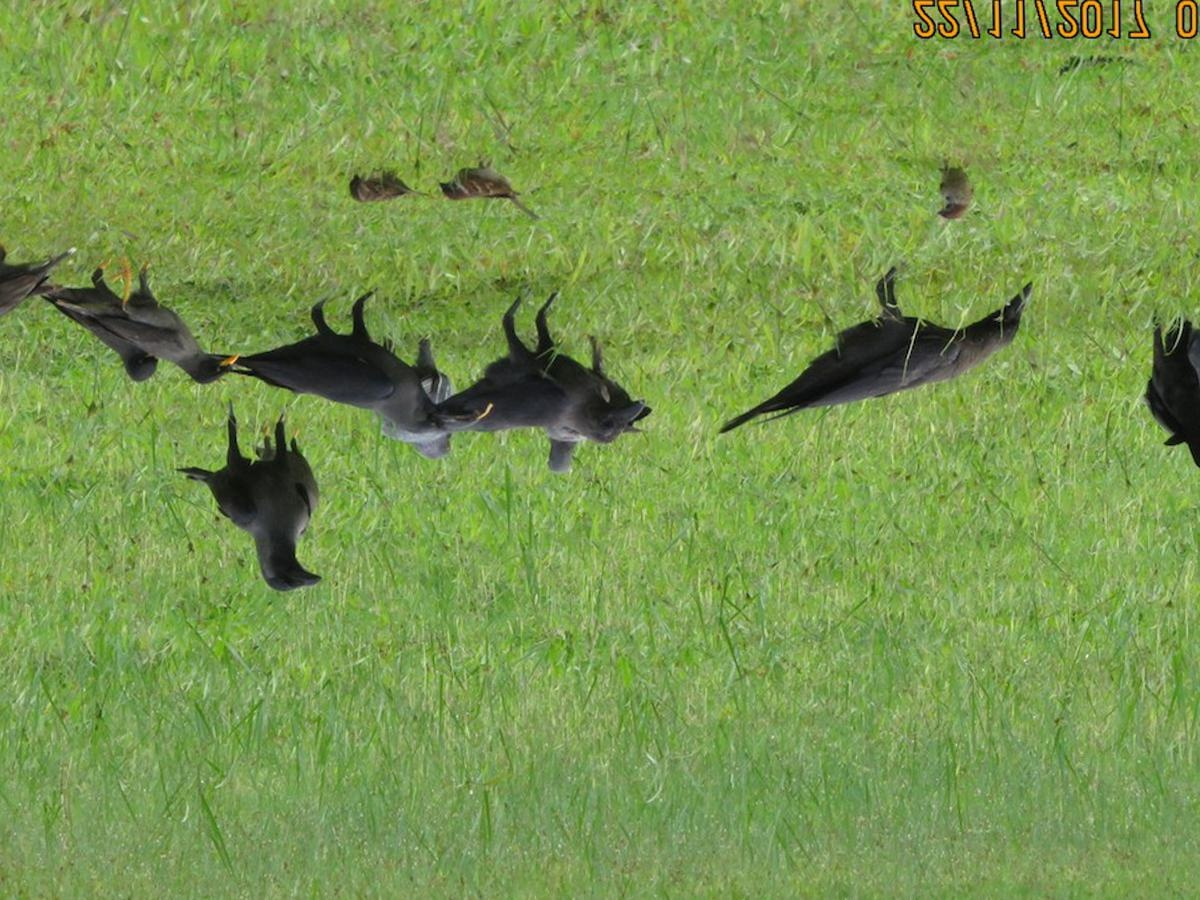crow: (716, 243, 1053, 437), (454, 296, 663, 446), (264, 303, 451, 447), (207, 420, 332, 598), (53, 285, 170, 392), (135, 296, 240, 387)
